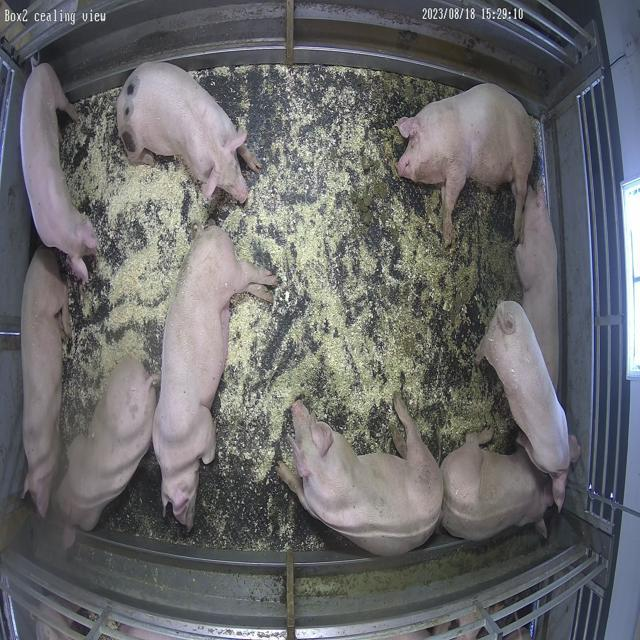Dirt: (447, 183, 523, 326), (351, 175, 389, 226)
Pig: (152, 226, 278, 530), (279, 396, 444, 556), (397, 84, 535, 246), (478, 302, 572, 508), (117, 62, 248, 202), (56, 358, 157, 532), (20, 63, 96, 282), (20, 247, 69, 518), (442, 431, 554, 542), (516, 187, 561, 384)
